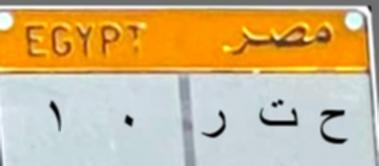0: (115, 107, 143, 135)
1: (39, 90, 72, 138)
7aa: (314, 101, 353, 152)
raa: (196, 106, 232, 146)
taa: (250, 89, 304, 138)
